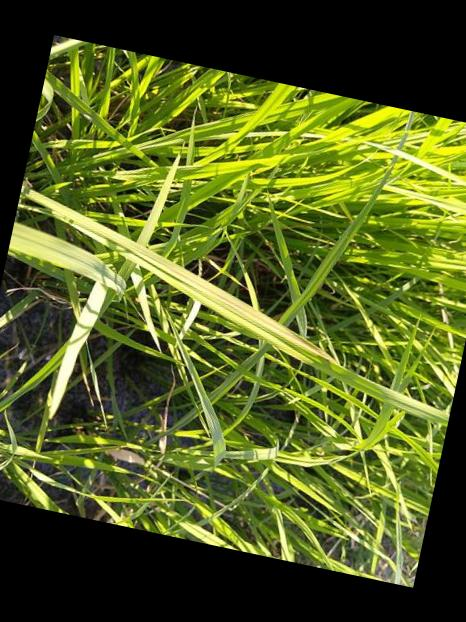Leaf Streak: (21, 190, 339, 372)
